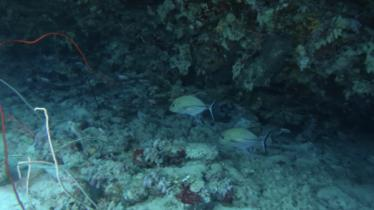Carangidae -Jacks-: (164, 89, 225, 127), (218, 125, 278, 163)
